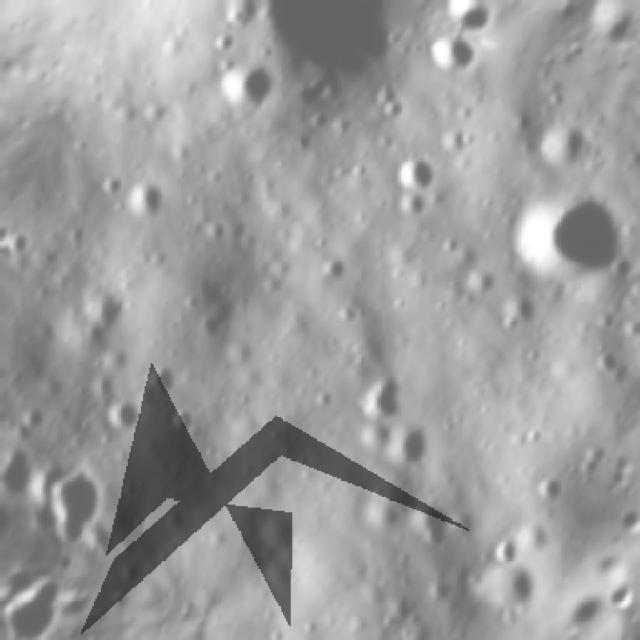crater: (495, 162, 640, 304), (220, 0, 412, 97), (34, 456, 120, 542), (207, 48, 290, 125), (483, 554, 548, 624), (532, 101, 599, 168), (423, 24, 491, 88), (489, 276, 554, 341), (353, 362, 416, 427), (378, 414, 440, 477), (0, 430, 52, 501), (386, 143, 448, 200), (404, 489, 462, 549), (93, 381, 152, 439), (452, 249, 508, 305), (366, 76, 419, 132), (138, 348, 190, 402), (118, 168, 170, 220), (526, 464, 577, 511), (1, 218, 39, 268), (486, 527, 526, 573), (164, 394, 204, 435), (472, 37, 525, 61), (383, 621, 449, 640)
